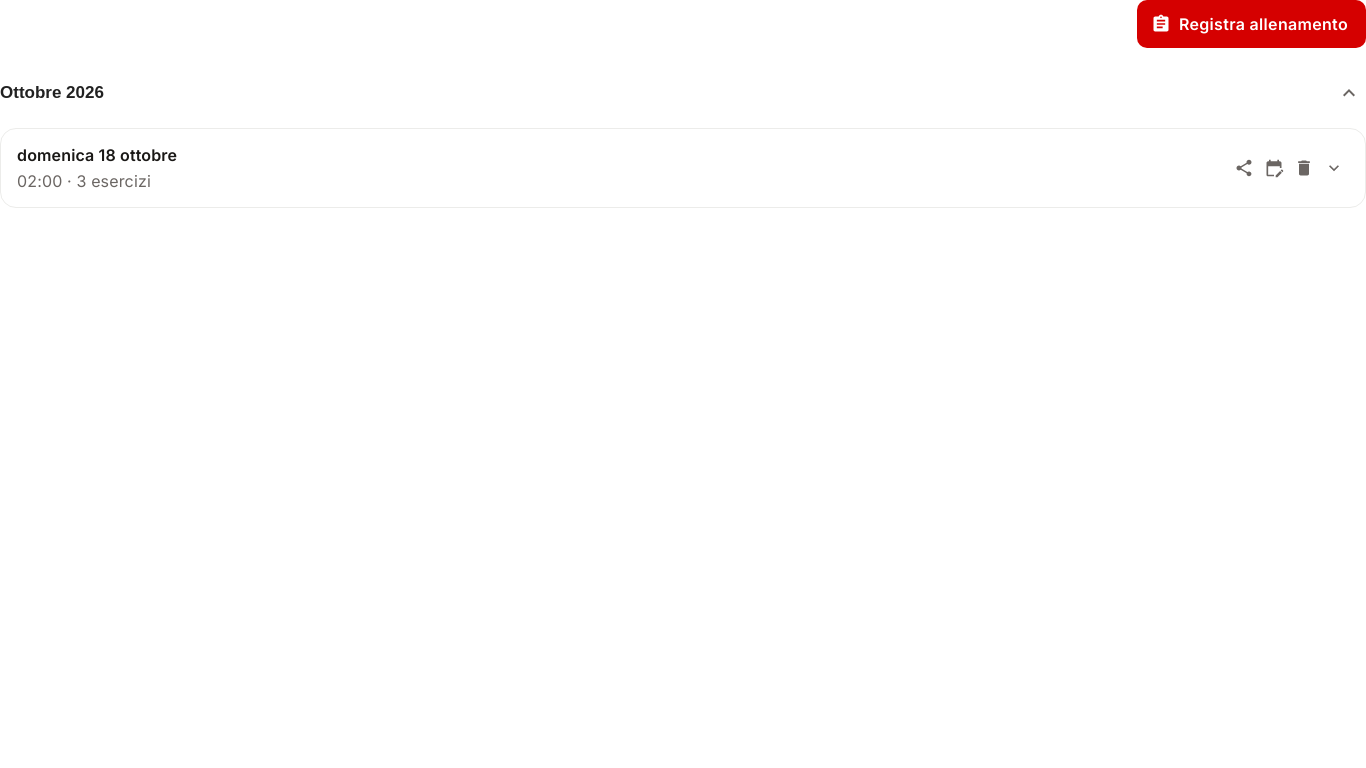
Test: eliminazione con «Annulla» › se il server rifiuta, la riga torna in lista e compare l'errore
Expected: the text "02:00 · 3 esercizi" is shown, x1=17 y1=169 x2=151 y2=193
Click the button named "Elimina allenamento" at (1304, 168), box x1=1289 y1=153 x2=1319 y2=183
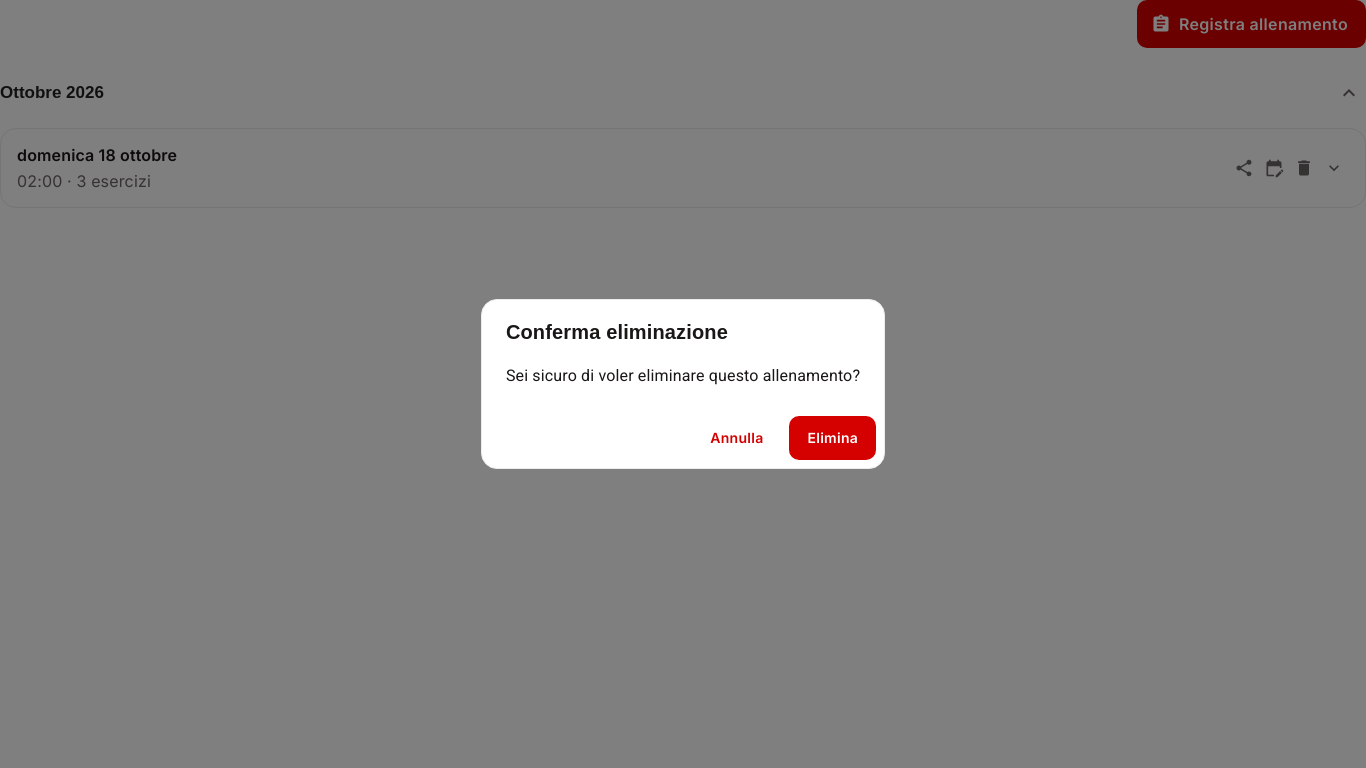
Now the heading "Conferma eliminazione" is shown, box x1=506 y1=321 x2=728 y2=343
Click the button "Elimina" at (833, 438), box x1=790 y1=416 x2=876 y2=460
Wait 10000 ms
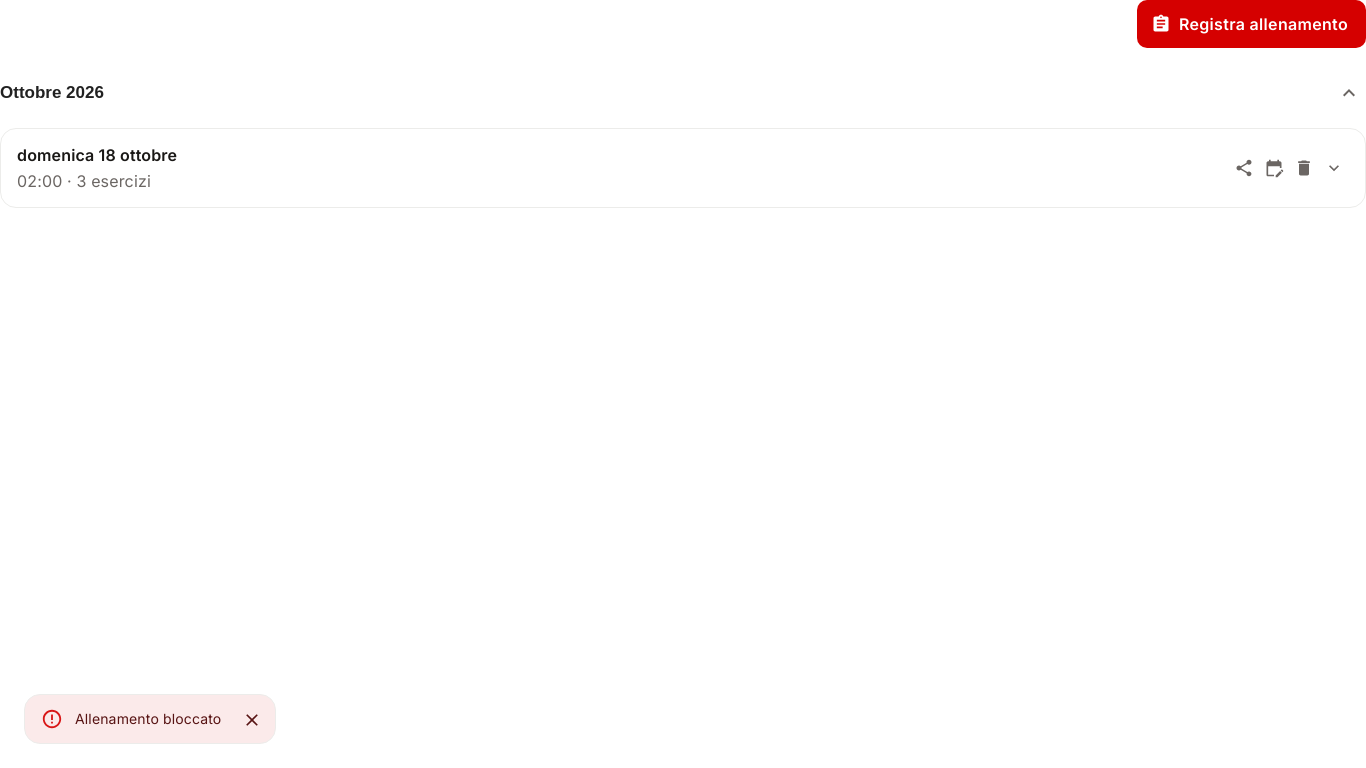
Expected: the text "02:00 · 3 esercizi" is shown, x1=17 y1=169 x2=151 y2=193
Now the text "Allenamento bloccato" is shown, box x1=75 y1=710 x2=221 y2=727
